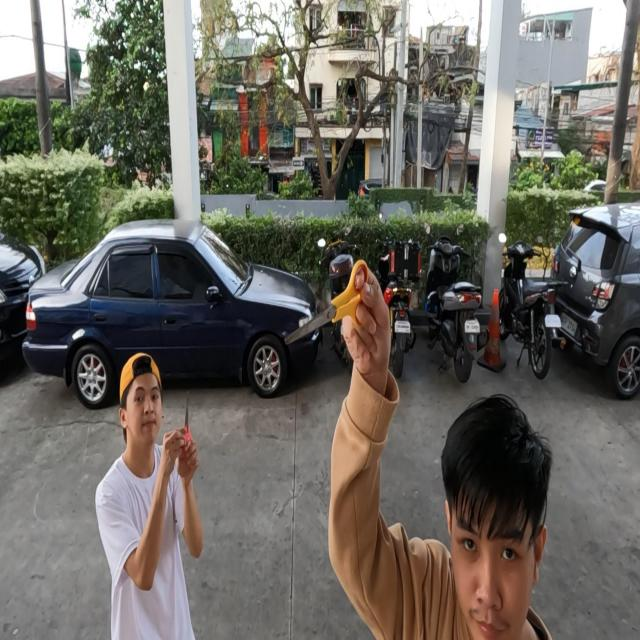scissor: (284, 260, 368, 346), (179, 393, 192, 452)
